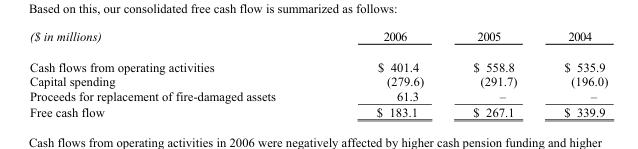table: (29, 28, 607, 118)
table column: (29, 28, 325, 118), (325, 28, 447, 118), (447, 28, 539, 118), (539, 28, 607, 118)
table column header: (29, 28, 607, 50)
table row: (29, 50, 607, 73), (29, 28, 607, 50), (29, 73, 607, 88), (29, 88, 607, 103), (29, 103, 607, 118)
